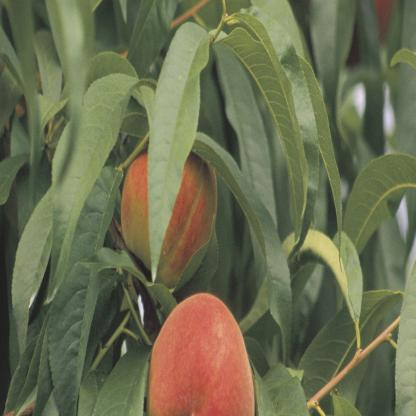Peach leaf: (185, 124, 295, 368), (46, 65, 143, 312), (217, 15, 312, 228), (143, 21, 218, 290), (59, 163, 122, 413), (338, 144, 414, 263)
